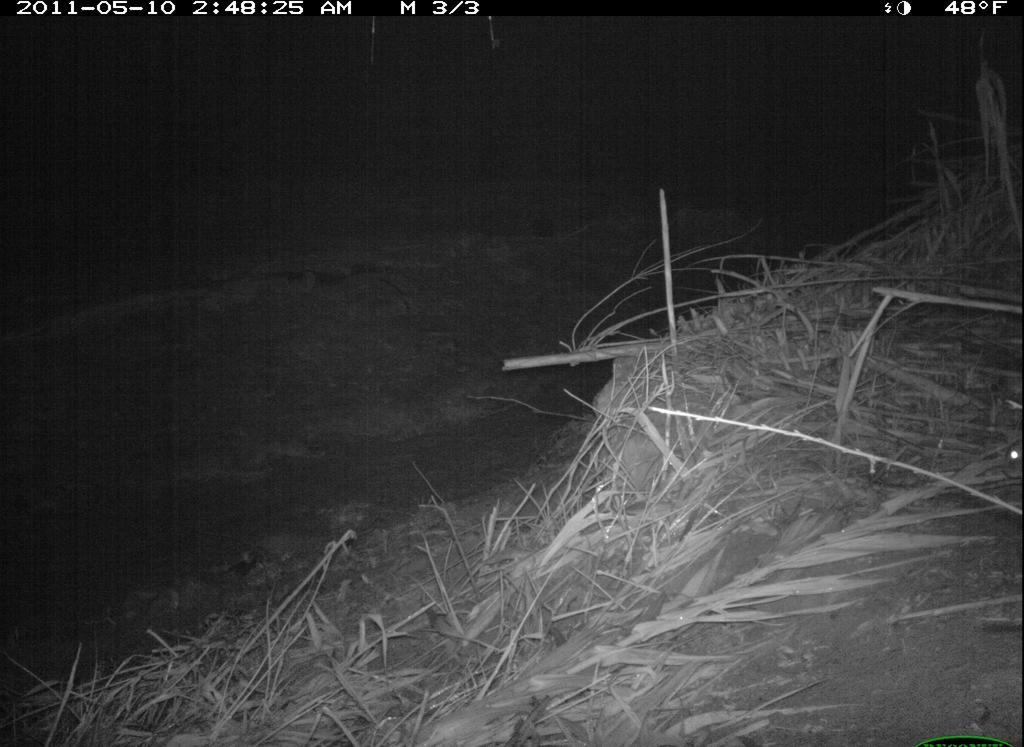rabbit: (995, 431, 1023, 484)
